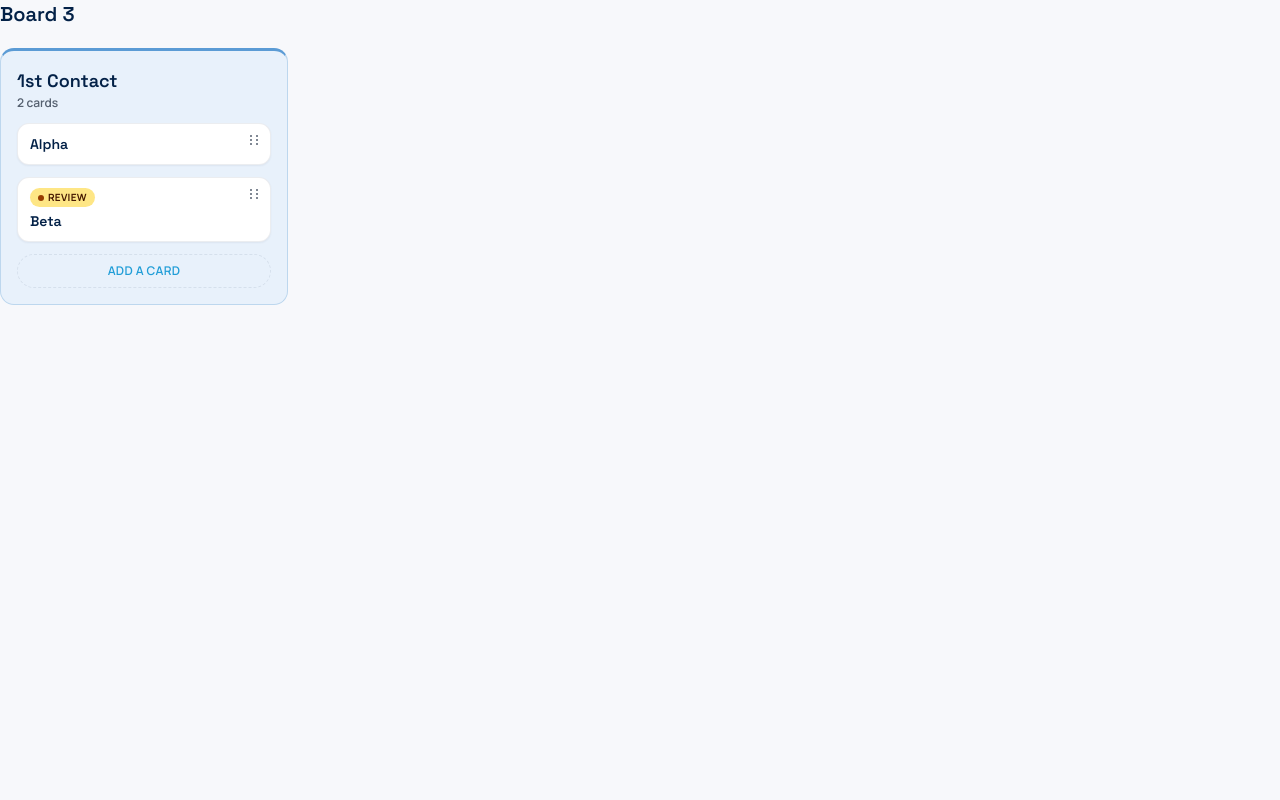
Test: central card reviews: markers on the cards and a dialog per obligation › shows a backward move to a Super Admin and clears via the super_admin action
The image size is (1280, 800).
Click the button with test id "review-marker-22" at (62, 198), box [30,188,95,207]
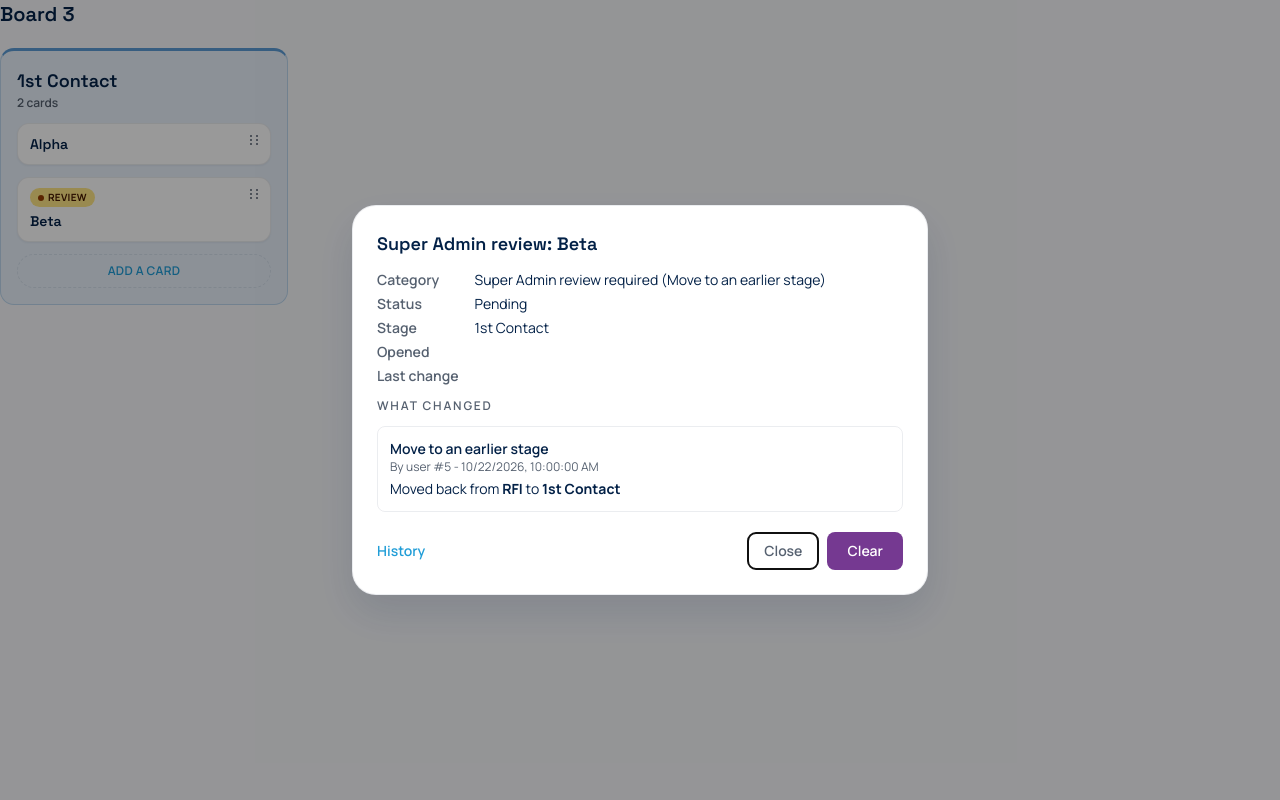
Now the list item with test id "review-trigger" shows "Moved back from RFI to 1st Contact", box [377,426,903,512]
Click the button "Clear" at (865, 551), box [828,532,903,570]
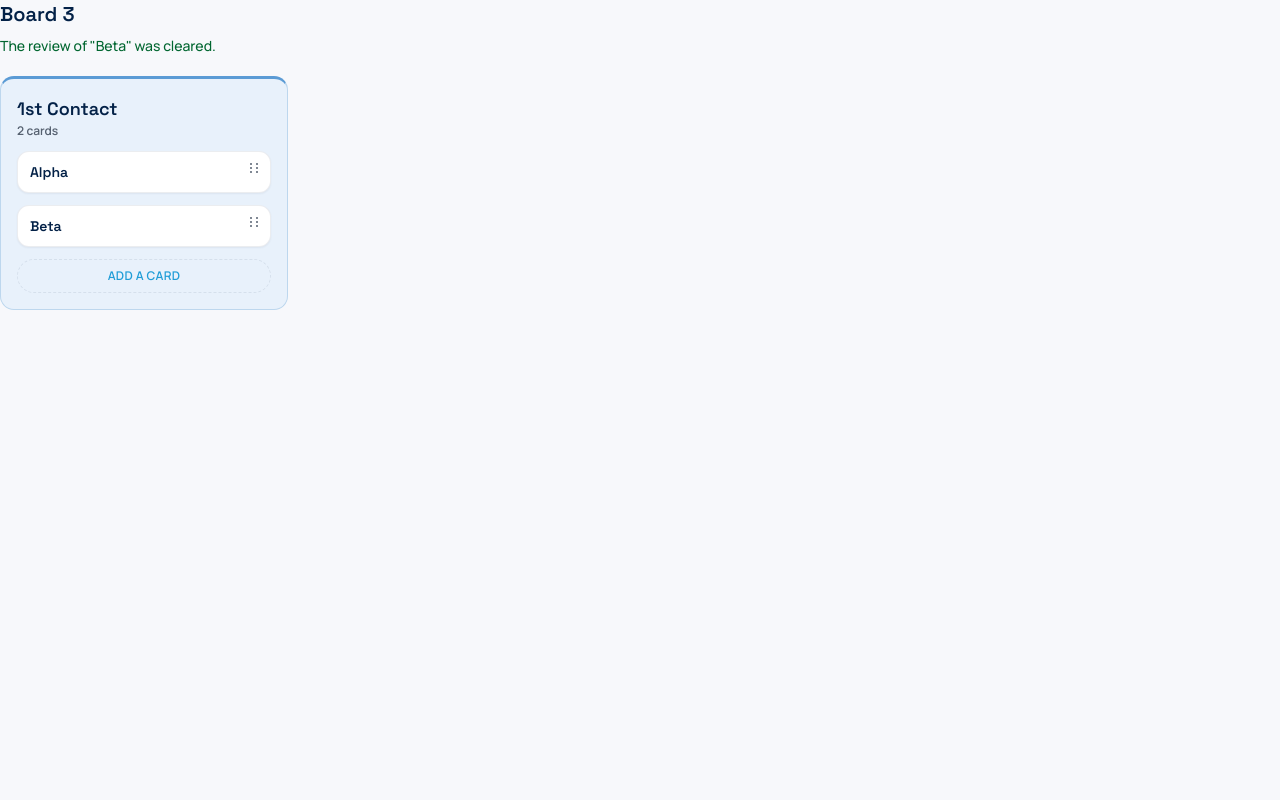
Now the button with test id "review-marker-22" is gone
